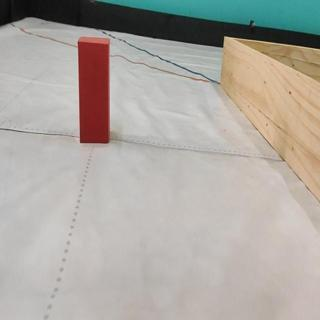redbox: (79, 36, 110, 144)
